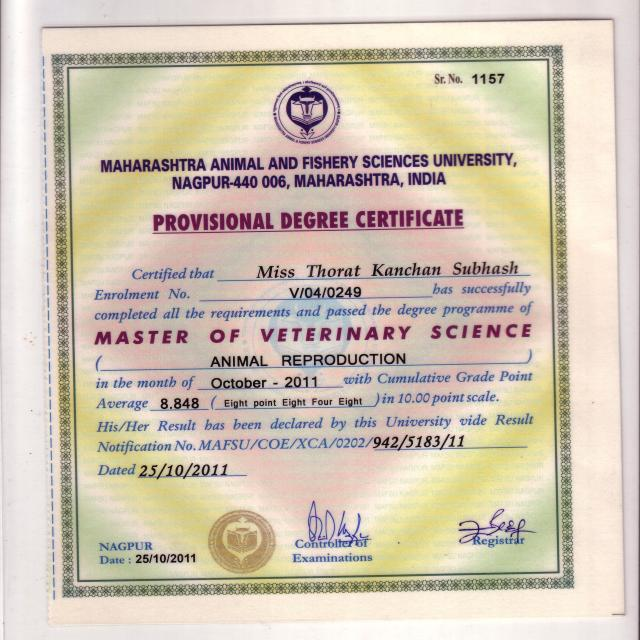degree: (93, 321, 545, 345)
signature: (294, 498, 374, 548)
stamp: (206, 508, 281, 575)
